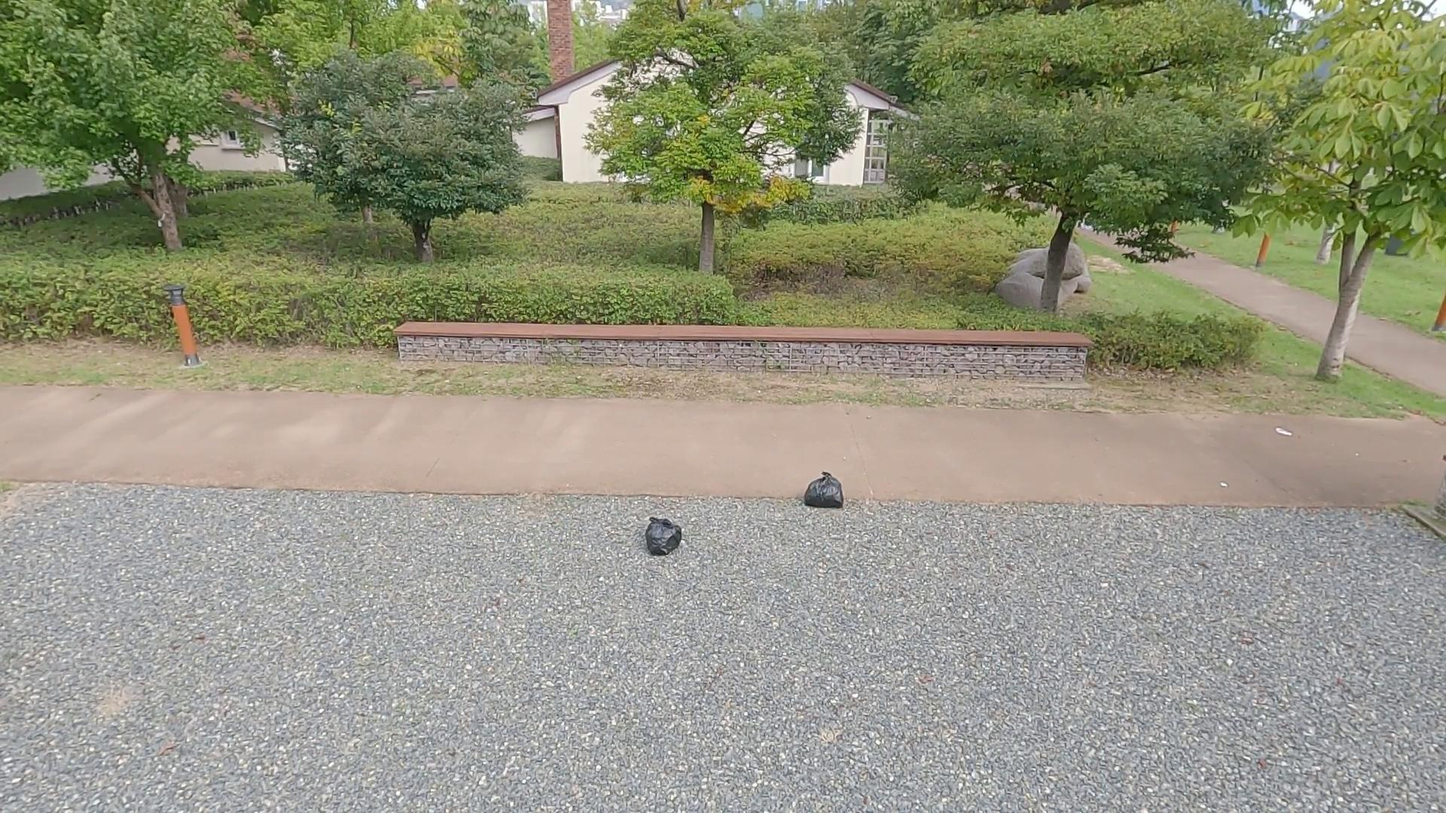trash: (798, 465, 848, 511), (642, 516, 686, 563)
